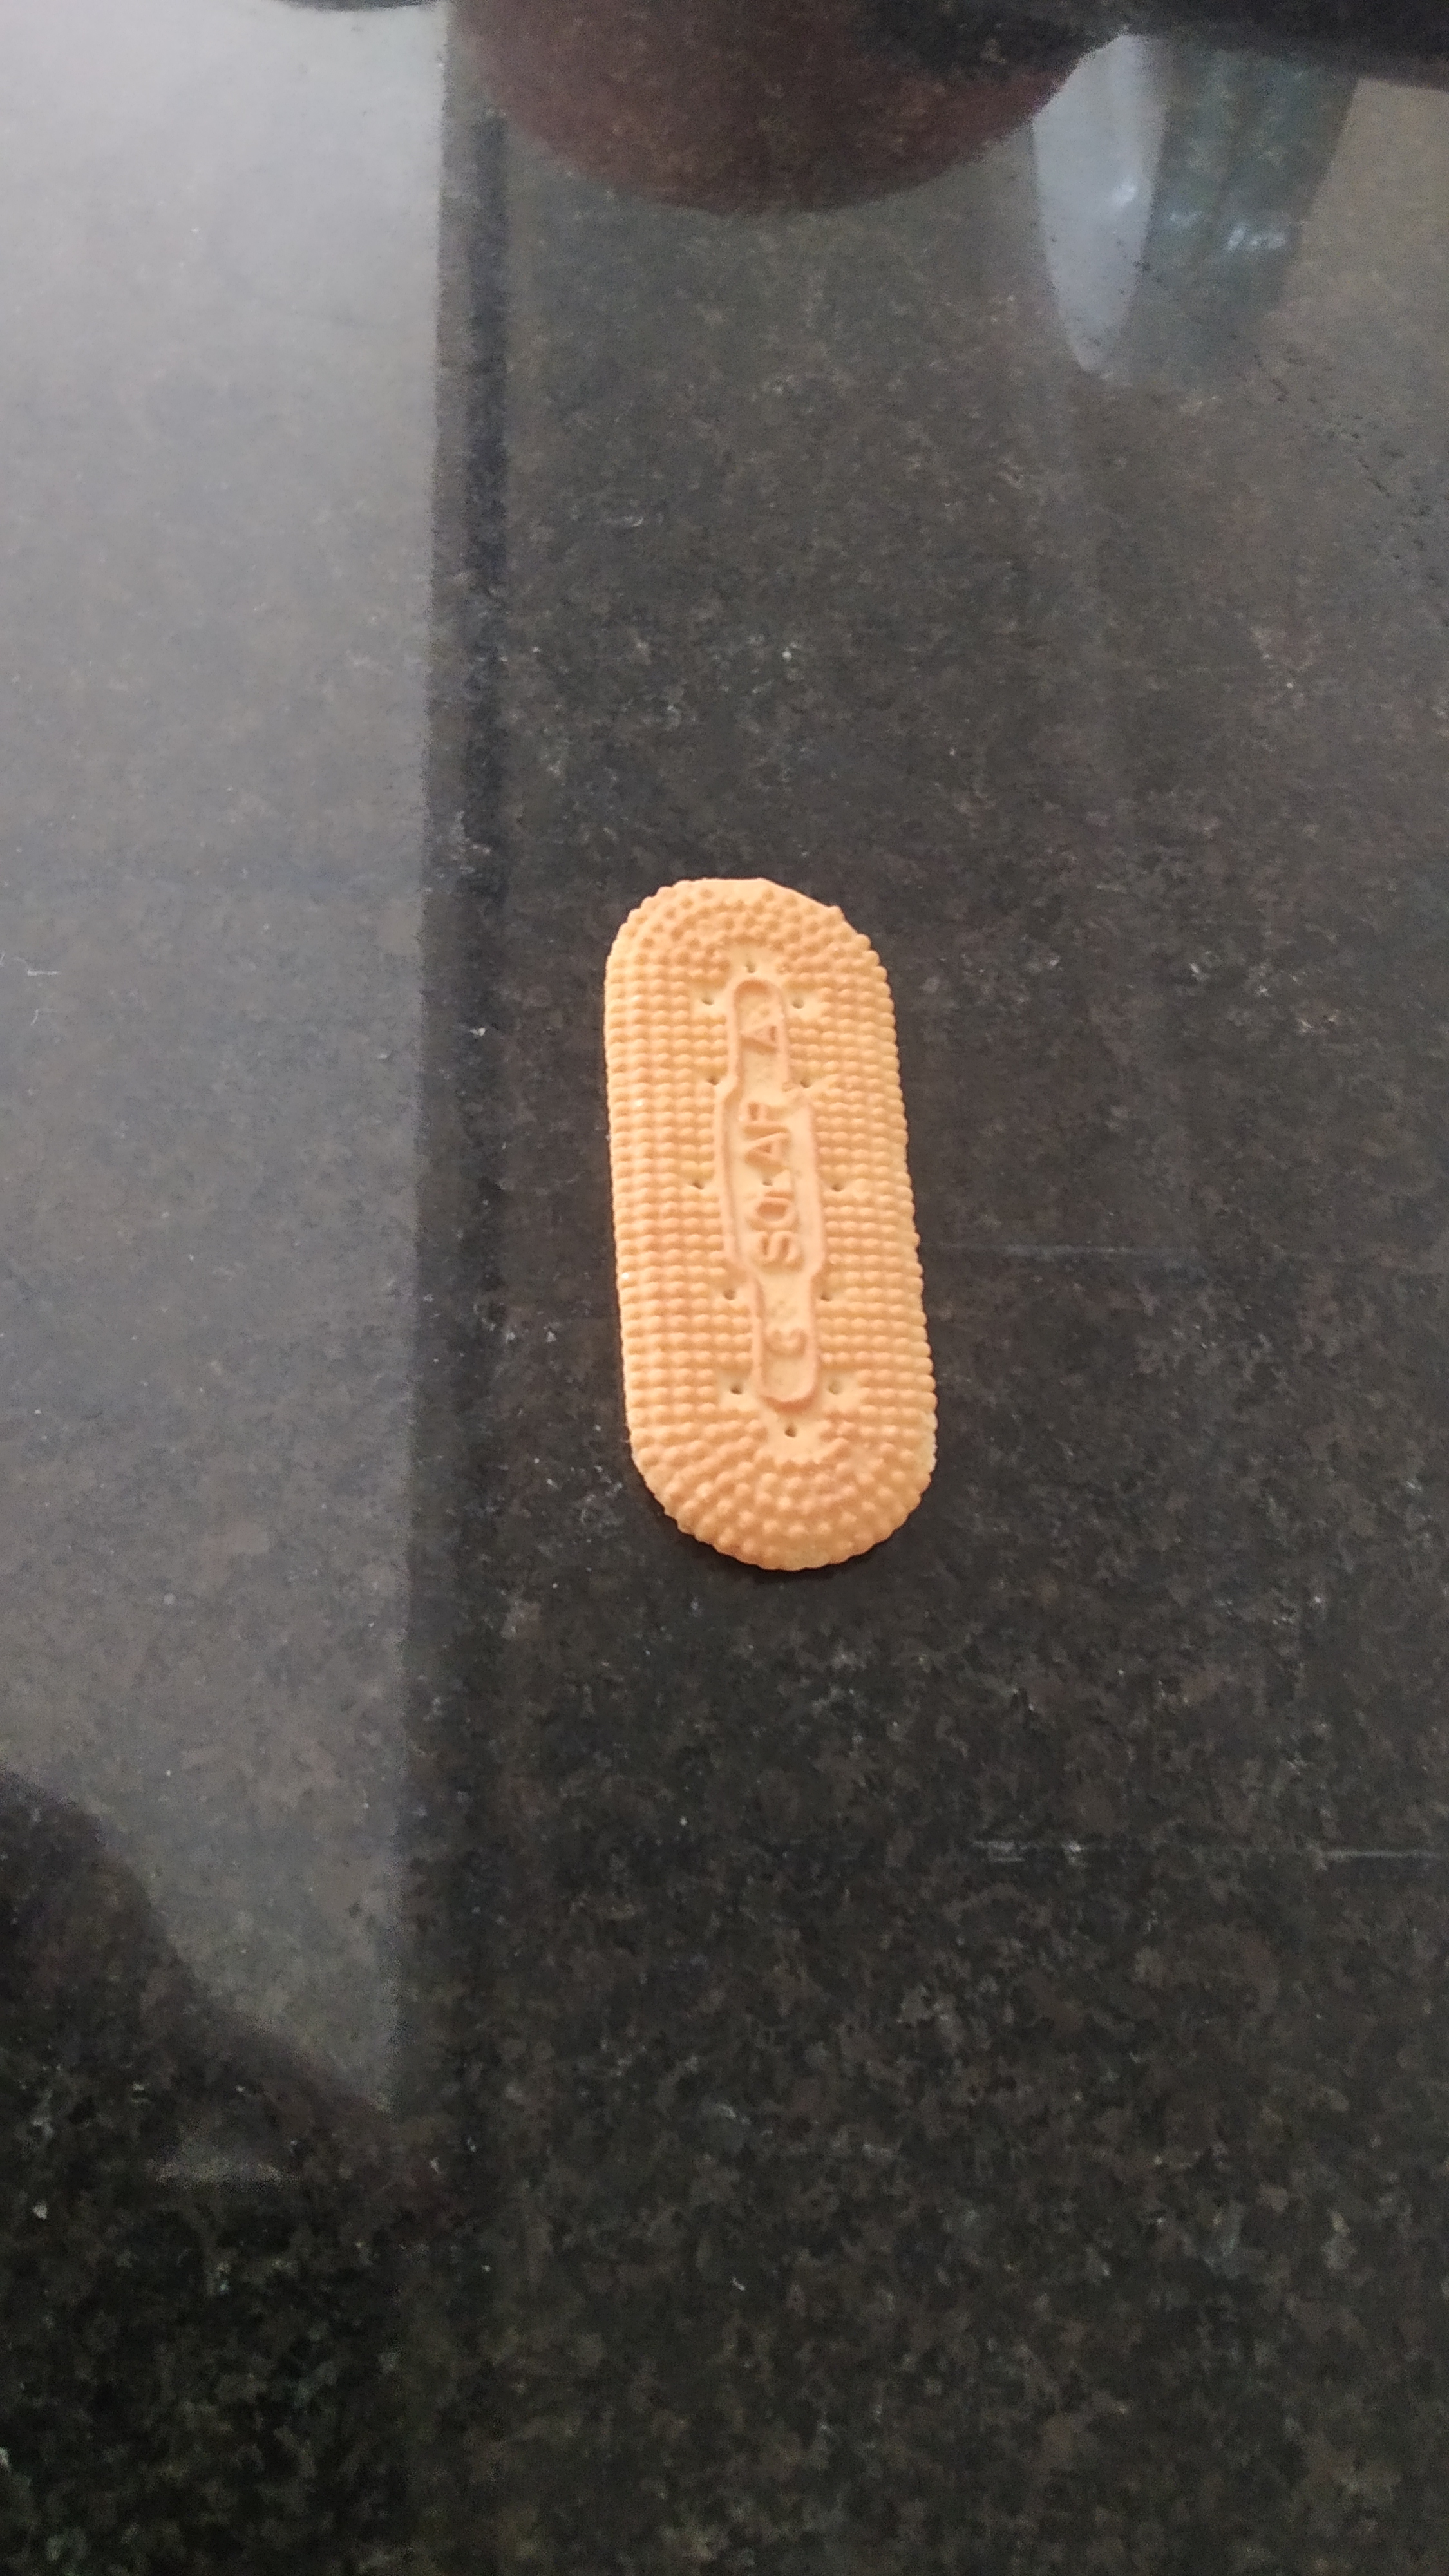solar: (602, 878, 941, 1575)
